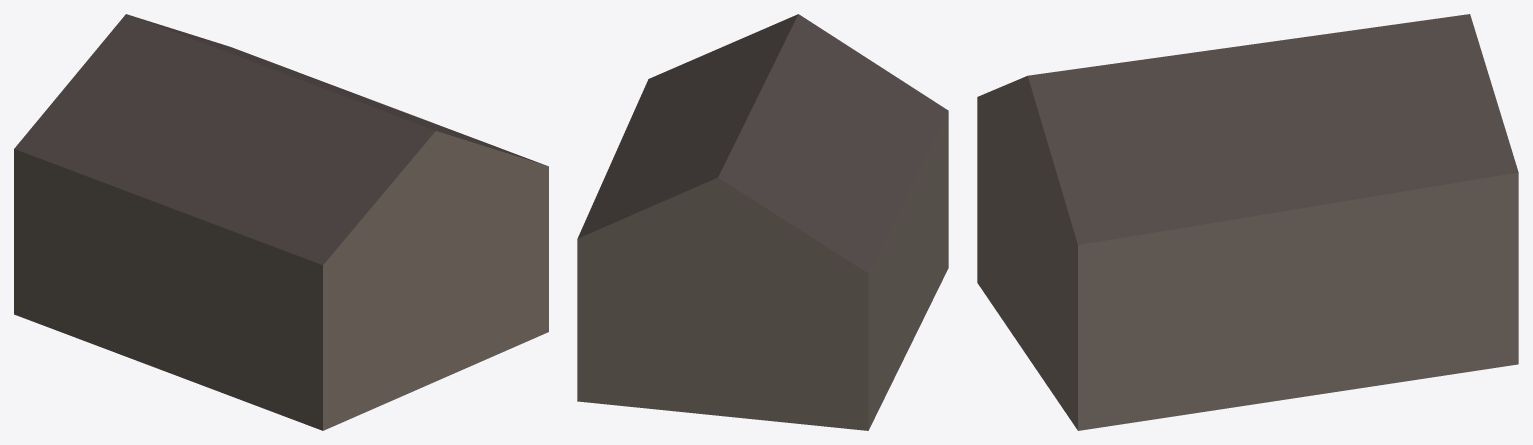
The picture shows the model from 3 angles, left to right: view 1: azimuth 30°, elevation 25°; view 2: azimuth 150°, elevation 25°; view 3: azimuth 270°, elevation 25°; orthographic projection. The views are drawn at different scales.
Visible parts, largest first — view 1: HP-w776801011; view 2: HP-w776801011; view 3: HP-w776801011.
Part boxes in pixels (bbox=[...]): HP-w776801011: bbox=[14, 14, 548, 430]; HP-w776801011: bbox=[577, 14, 948, 430]; HP-w776801011: bbox=[977, 14, 1518, 430].
Bounding box in the file's own units: 14.52 × 9.08 × 15.84.
